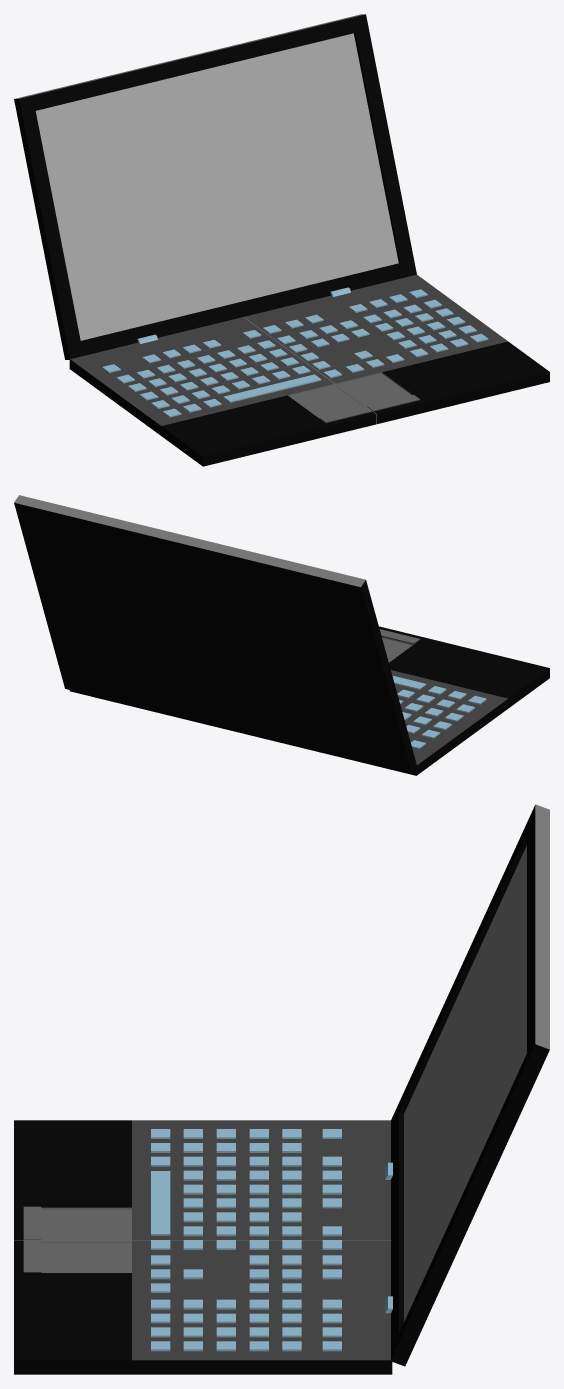
File: laptop.fbx
3 renders of one model, top to bottom at view 1: azimuth 30°, elevation 25°; view 2: azimuth 150°, elevation 25°; view 3: azimuth 270°, elevation 25°, orthographic. The views are drawn at different scales.
Parts seen in each view (by area): view 1: Laptop_01; view 2: Laptop_01; view 3: Laptop_01.
Boxes of the visible parts, x1=… form: Laptop_01: x1=14, y1=14, x2=549, y2=466; Laptop_01: x1=14, y1=495, x2=549, y2=775; Laptop_01: x1=14, y1=804, x2=549, y2=1374.
Bounding box in the file's own units: 36 × 23.12 × 33.99.
